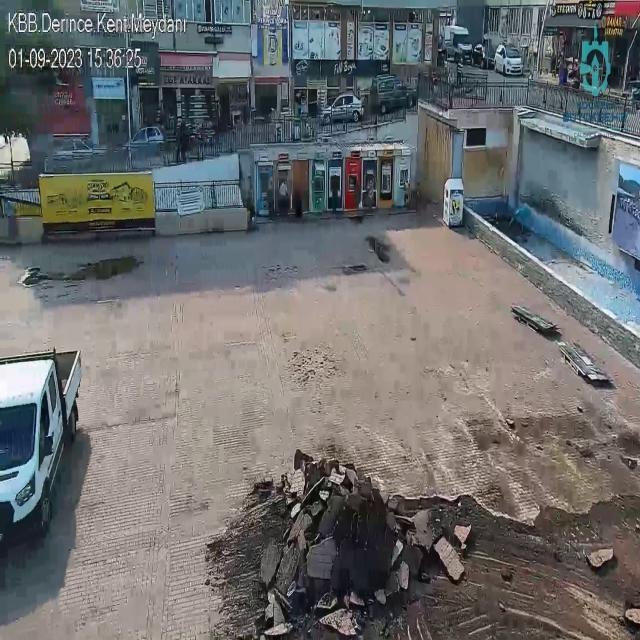Car: (372, 76, 417, 115), (319, 92, 367, 126), (122, 125, 169, 153), (51, 139, 110, 161), (492, 44, 523, 76), (472, 43, 496, 68)
Truck: (0, 344, 84, 543)
Van: (444, 26, 473, 64)
